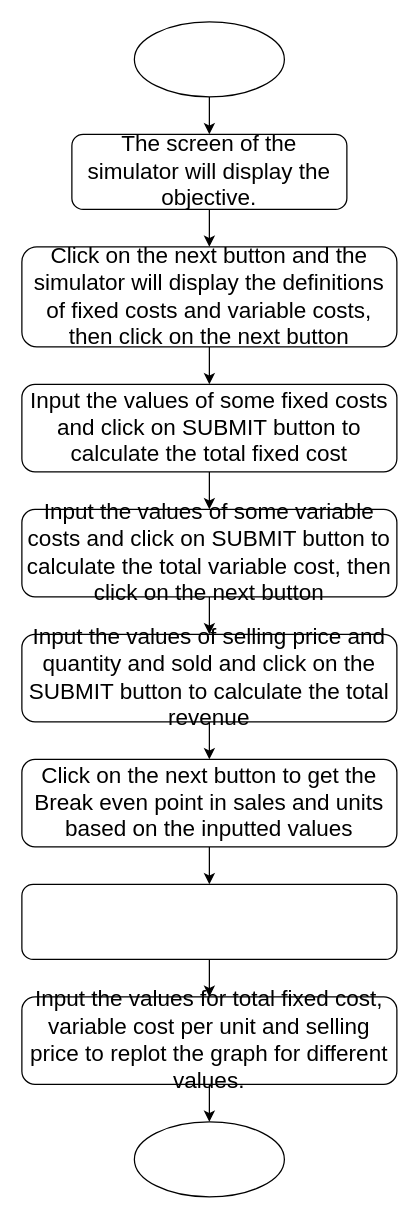
Image size: 419x1219. Some labels were removed from this diagram. The shapes that lost their labels are listed below. From the top down, each one's centre as x and y in pixels, then its label:
At point 208,59: "Start".
At point 209,921: "Click on the PLOT button to plot the graph for break even point.".
At point 208,1159: "End".
